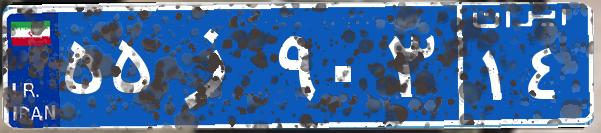0: (330, 28, 385, 110)
1: (475, 38, 525, 113)
3: (385, 28, 445, 110)
4: (525, 38, 570, 115)
5: (57, 26, 110, 107), (110, 28, 158, 105)
9: (273, 28, 330, 110)
ز: (158, 15, 273, 115)
